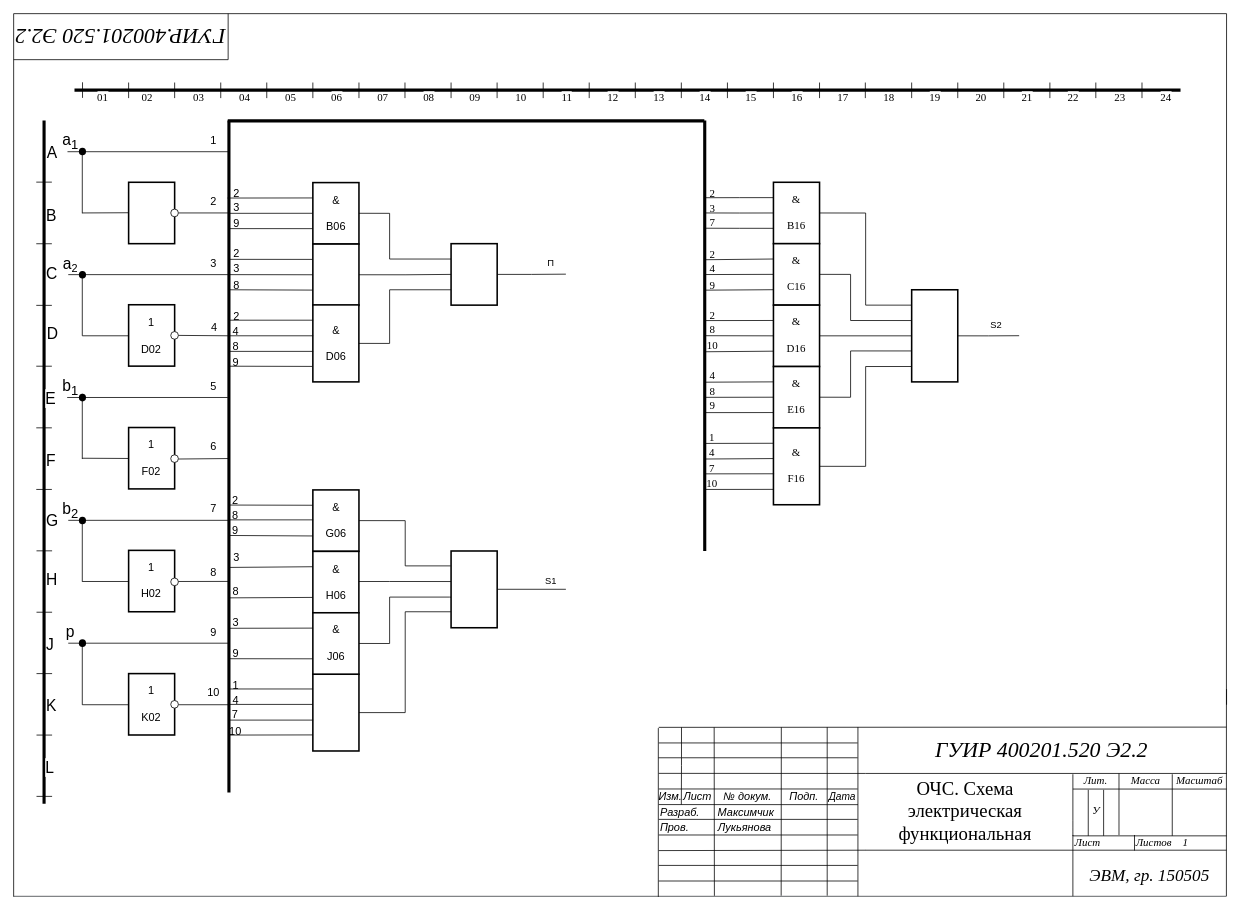
The diagram is 1242 pixels wide and 912 high, and some of its shapes have lost their labels. The shapes that lost their labels are listed below. From the top down, each one's centre as x and y in pixels, then its label:
At (x=151, y=212): "1 B02".
At (x=335, y=274): "& C06".
At (x=474, y=274): "1 C09".
At (x=934, y=335): "1 D19".
At (x=474, y=589): "1 H09".
At (x=335, y=712): "& K06".
